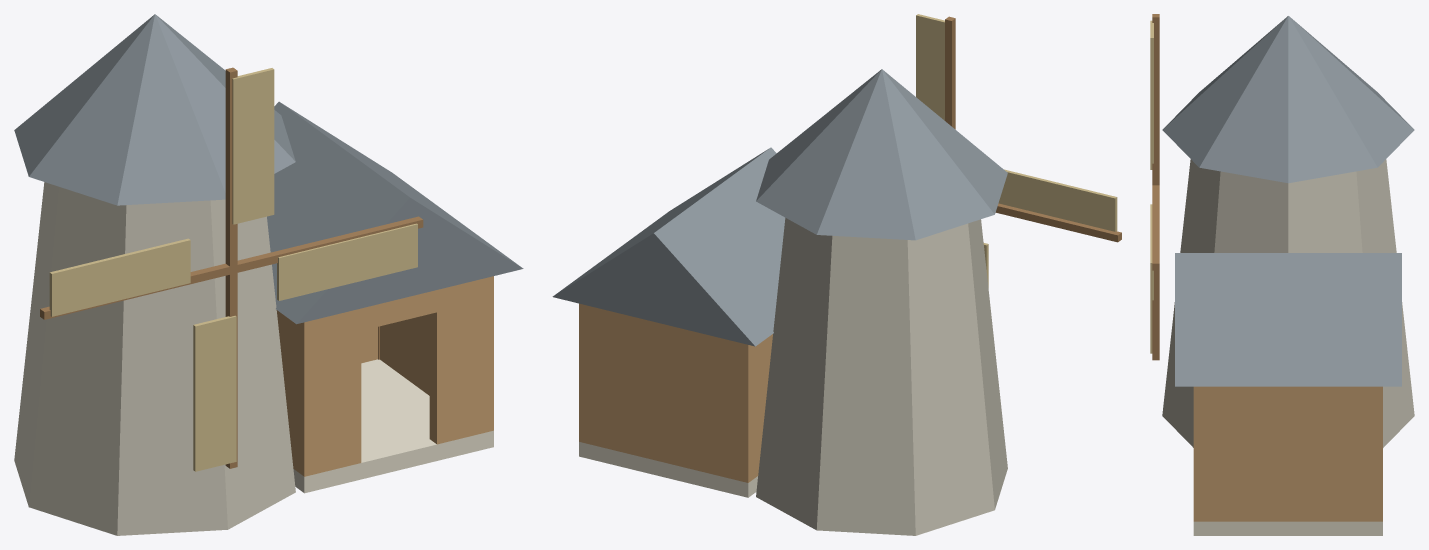
The model's file is grain-mill.glb.
3 renders of one model, left to right at view 1: azimuth 30°, elevation 25°; view 2: azimuth 150°, elevation 25°; view 3: azimuth 270°, elevation 25°, orthographic. The views are drawn at different scales.
Parts seen in each view (by area): view 1: grain-mill; view 2: grain-mill; view 3: grain-mill.
Part boxes in pixels (left/top/right/bottom): grain-mill: left=14, top=14, right=523, bottom=535; grain-mill: left=552, top=14, right=1121, bottom=535; grain-mill: left=1150, top=14, right=1414, bottom=535.
Bounding box in the file's own units: 7.8 × 7 × 4.19.
